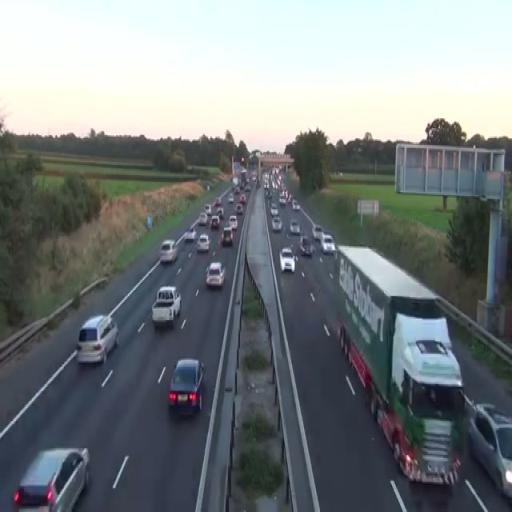Car: (12, 446, 91, 511), (467, 402, 512, 501), (168, 358, 206, 417), (76, 314, 119, 366), (152, 286, 182, 326), (206, 261, 226, 289), (160, 239, 178, 264), (280, 248, 296, 273), (196, 233, 210, 253), (221, 225, 233, 247)
Truck: (332, 245, 466, 492)
